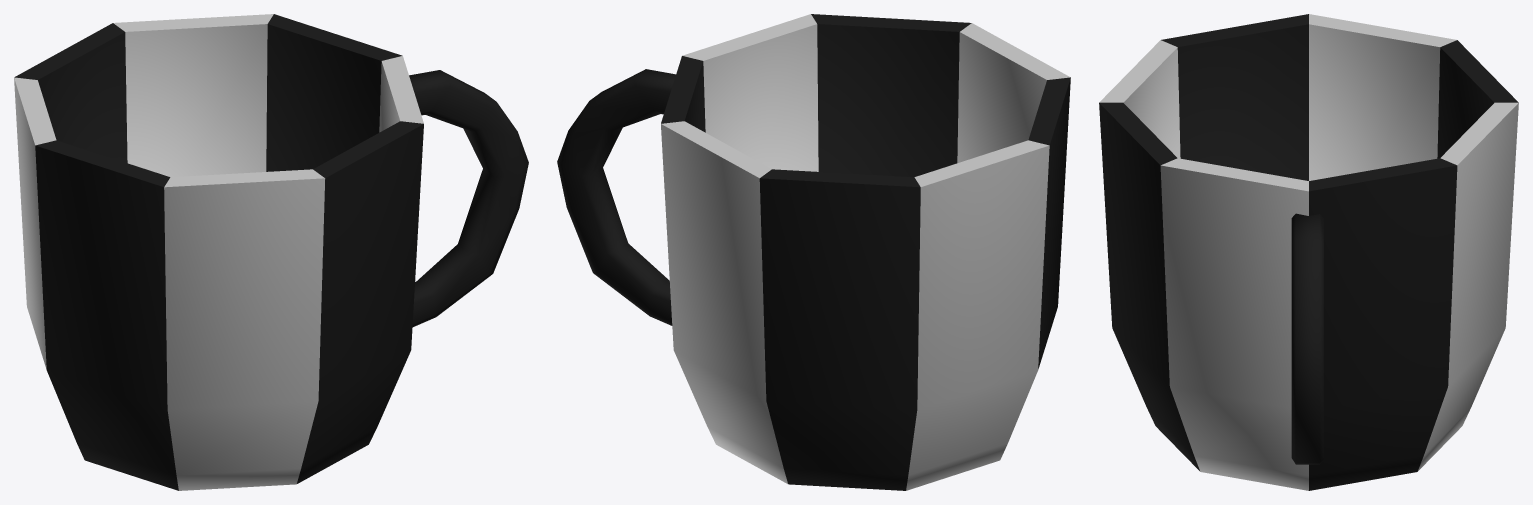
Rendered from Coffee_Cup_04_B.FBX.
3 renders of one model, left to right at view 1: azimuth 30°, elevation 25°; view 2: azimuth 150°, elevation 25°; view 3: azimuth 270°, elevation 25°, orthographic.
Parts seen in each view (by area): view 1: Coffee Cup; view 2: Coffee Cup; view 3: Coffee Cup.
Part boxes in pixels (x1,y1,x2,y2): Coffee Cup: (14,14,528,490); Coffee Cup: (557,14,1070,490); Coffee Cup: (1099,14,1518,490).
Bounding box in the file's own units: 44.01 × 28.24 × 33.22.
